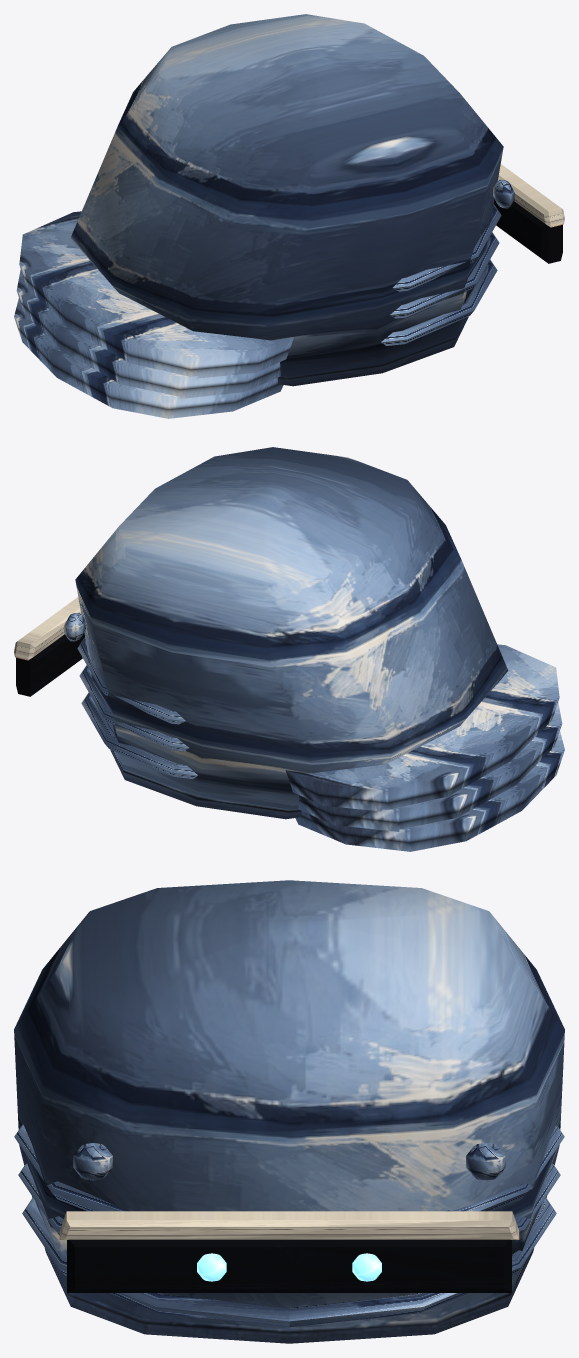
Rendered from sallet.glb.
3 renders of one model, top to bottom at view 1: azimuth 30°, elevation 25°; view 2: azimuth 150°, elevation 25°; view 3: azimuth 270°, elevation 25°, orthographic. The views are drawn at different scales.
Parts seen in each view (by area): view 1: head; view 2: head; view 3: head.
Boxes of the visible parts, <box> form: head: <box>14,14,564,418</box>; head: <box>14,447,564,851</box>; head: <box>14,880,564,1343</box>.
Size of the model in its own units: 0.5443 by 0.299 by 0.4234.
4 materials, 4 textured.
